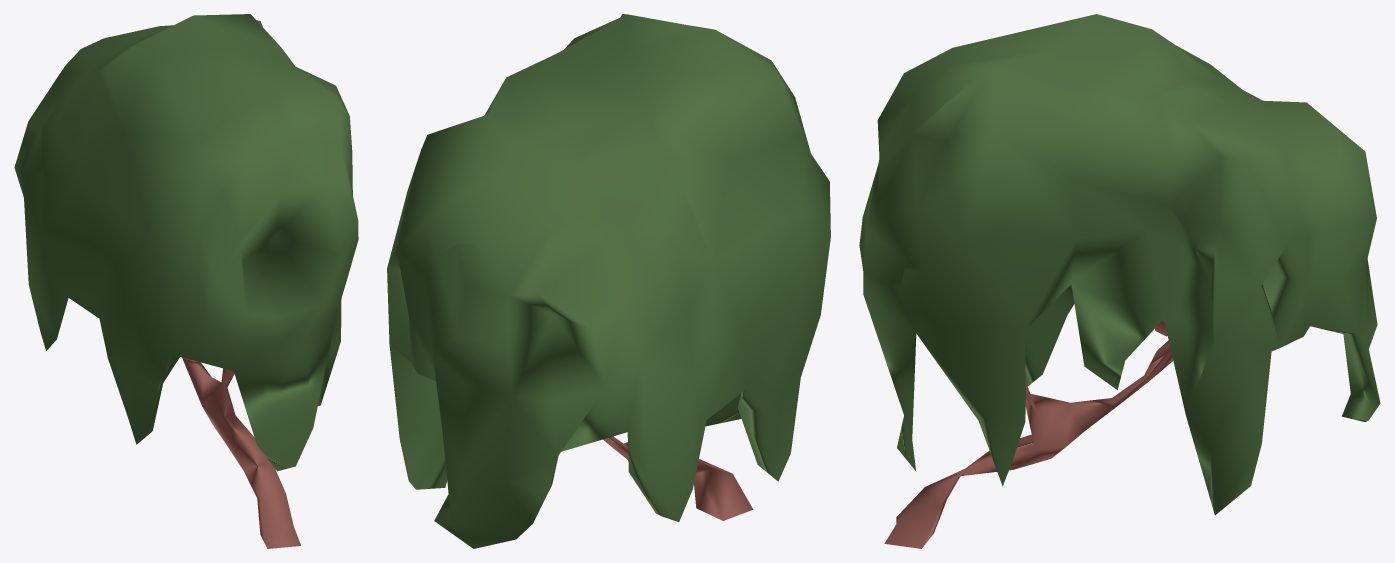
Rendered from Willow_2_lod.glb.
The picture shows the model from 3 angles, left to right: view 1: azimuth 30°, elevation 25°; view 2: azimuth 150°, elevation 25°; view 3: azimuth 270°, elevation 25°; orthographic projection. The views are drawn at different scales.
Parts seen in each view (by area): view 1: Willow_2; view 2: Willow_2; view 3: Willow_2.
Part boxes in pixels (x1,y1,x2,y2): Willow_2: (14,14,358,548); Willow_2: (387,14,830,548); Willow_2: (859,14,1380,548).
Bounding box in the file's own units: 195 × 332 × 310.
